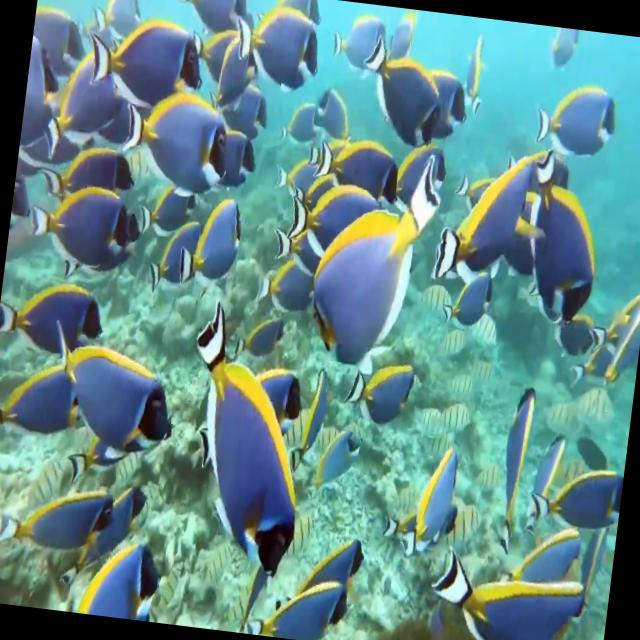fish: (157, 290, 323, 586), (302, 121, 460, 383), (36, 309, 186, 456), (513, 140, 611, 338), (104, 61, 242, 199), (416, 533, 592, 640), (424, 140, 542, 286), (77, 2, 208, 114), (31, 34, 121, 188), (348, 32, 448, 154), (21, 177, 148, 268), (485, 374, 547, 542), (166, 173, 246, 300), (232, 0, 328, 104), (7, 470, 110, 558), (0, 274, 108, 353), (76, 527, 164, 622), (529, 78, 626, 164), (336, 334, 422, 429), (404, 432, 470, 552), (247, 570, 360, 640), (530, 447, 626, 529), (0, 348, 85, 440), (49, 133, 142, 215), (416, 34, 478, 146), (20, 21, 74, 140), (86, 461, 154, 552), (140, 214, 204, 304), (28, 0, 97, 74), (323, 0, 389, 77), (437, 263, 508, 333), (300, 522, 378, 584), (521, 408, 559, 530), (520, 506, 588, 572), (156, 0, 255, 37), (81, 0, 151, 46), (276, 90, 318, 159), (307, 88, 355, 146), (540, 25, 586, 80), (460, 43, 490, 114)
